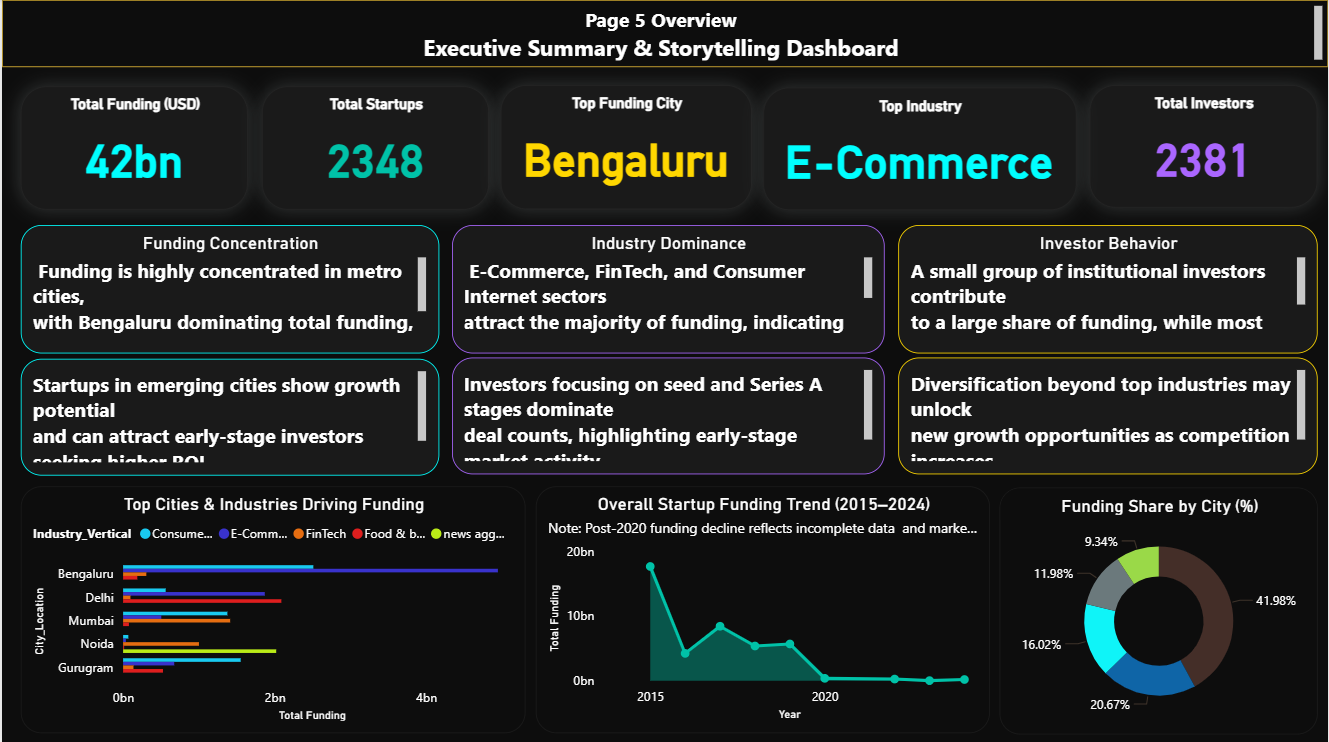

The page's visual inventory and layout, read from the dashboard file:
{"tool":"powerbi","page":{"name":"Executive Summary & Storytelling Dashboard","canvas":[1280,720],"ordinal":4},"visuals":[{"type":"textbox","box":[0,0,1280.3,64.5],"z":0},{"type":"card","title":"Total Funding (USD)","fields":{"Values":["cleaned_startup_funding_2015_2024_raw.Total Funding"]},"box":[17.8,83.7,219.6,119.4],"z":1000},{"type":"card","title":"Total Startups","fields":{"Values":["cleaned_startup_funding_2015_2024_raw.Total Startups"]},"box":[251.1,83.7,219.6,119.4],"z":2000},{"type":"card","title":"Total Investors","fields":{"Values":["cleaned_startup_funding_2015_2024_raw.Total Investors"]},"box":[1050,82.5,220,118.8],"z":3000},{"type":"card","title":"Top Funding City","fields":{"Values":["DateTable.Most Funded City"]},"box":[481.2,82.5,242.5,120],"z":4000},{"type":"card","title":"Top Industry","fields":{"Values":["DateTable.Top Industry"]},"box":[735,85,302,118.8],"z":5000},{"type":"textbox","title":"Funding Concentration","box":[17.5,217.5,403.8,123.8],"z":6000},{"type":"textbox","title":"Industry Dominance","box":[433.8,217.5,417.5,123.8],"z":7000},{"type":"textbox","title":"Investor Behavior","box":[865,217.5,405,123.8],"z":8000},{"type":"clusteredBarChart","title":"Top Cities & Industries Driving Funding","fields":{"Category":["cleaned_startup_funding_2015_2024_raw.City_Location"],"Y":["cleaned_startup_funding_2015_2024_raw.Total Funding"],"Series":["cleaned_startup_funding_2015_2024_raw.Industry_Vertical"]},"box":[17.5,468.8,487.5,238.8],"z":9000},{"type":"lineChart","title":"Overall Startup Funding Trend (2015–2024)","fields":{"Category":["cleaned_startup_funding_2015_2024_raw.Year"],"Y":["cleaned_startup_funding_2015_2024_raw.Total Funding"]},"box":[515,468.8,438.8,238.8],"z":10000},{"type":"donutChart","title":"Funding Share by City (%)","fields":{"Category":["cleaned_startup_funding_2015_2024_raw.City_Location"],"Y":["cleaned_startup_funding_2015_2024_raw.Total Funding"]},"box":[962.5,470,307.5,238.8],"z":11000},{"type":"textbox","title":"Funding Concentration","box":[17.5,346.2,403.8,112.5],"z":12000},{"type":"textbox","title":"Industry Dominance","box":[433.8,345,417.5,112.5],"z":13000},{"type":"textbox","title":"Investor Behavior","box":[865,345,405,112.5],"z":14000}]}

Visuals, with their boxes in screenshot pixels (x1, y1, x2, y2), scaled from the page's 1280x720 canvas onto the 1329x742 screenshot:
textbox: [0, 0, 1328, 66]
"Total Funding (USD)" card: [18, 86, 246, 209]
"Total Startups" card: [261, 86, 489, 209]
"Total Investors" card: [1090, 85, 1319, 207]
"Top Funding City" card: [500, 85, 751, 209]
"Top Industry" card: [763, 88, 1077, 210]
"Funding Concentration" textbox: [18, 224, 437, 352]
"Industry Dominance" textbox: [450, 224, 884, 352]
"Investor Behavior" textbox: [898, 224, 1319, 352]
"Top Cities & Industries Driving Funding" clusteredBarChart: [18, 483, 524, 729]
"Overall Startup Funding Trend (2015–2024)" lineChart: [535, 483, 990, 729]
"Funding Share by City (%)" donutChart: [999, 484, 1319, 730]
"Funding Concentration" textbox: [18, 357, 437, 473]
"Industry Dominance" textbox: [450, 356, 884, 471]
"Investor Behavior" textbox: [898, 356, 1319, 471]
